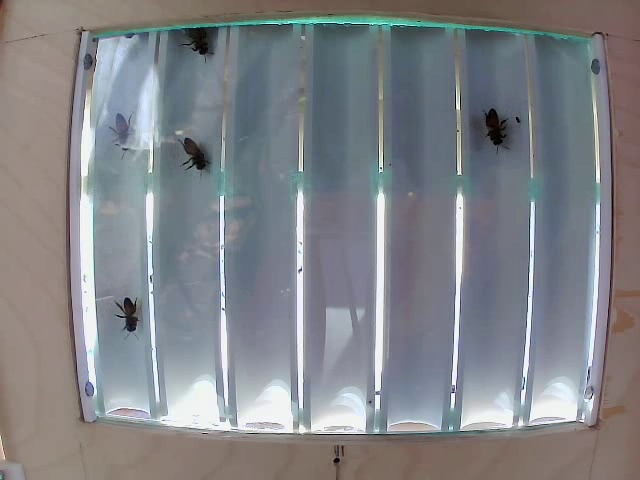bee: (113, 279, 167, 347), (481, 102, 522, 166), (109, 110, 147, 156), (184, 135, 217, 170)
